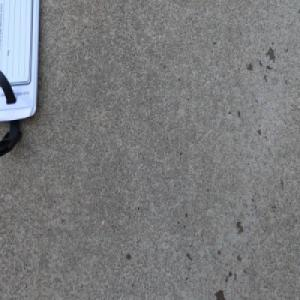LuggageTag: (0, 0, 42, 163)
